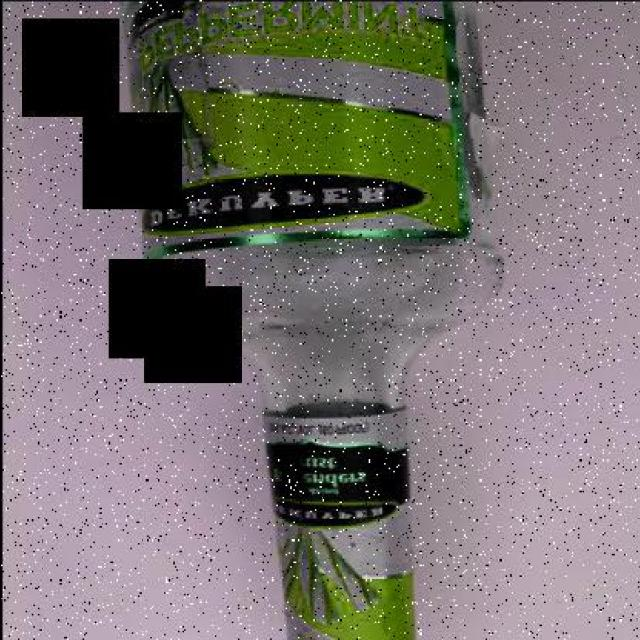glass: (122, 0, 494, 640)
